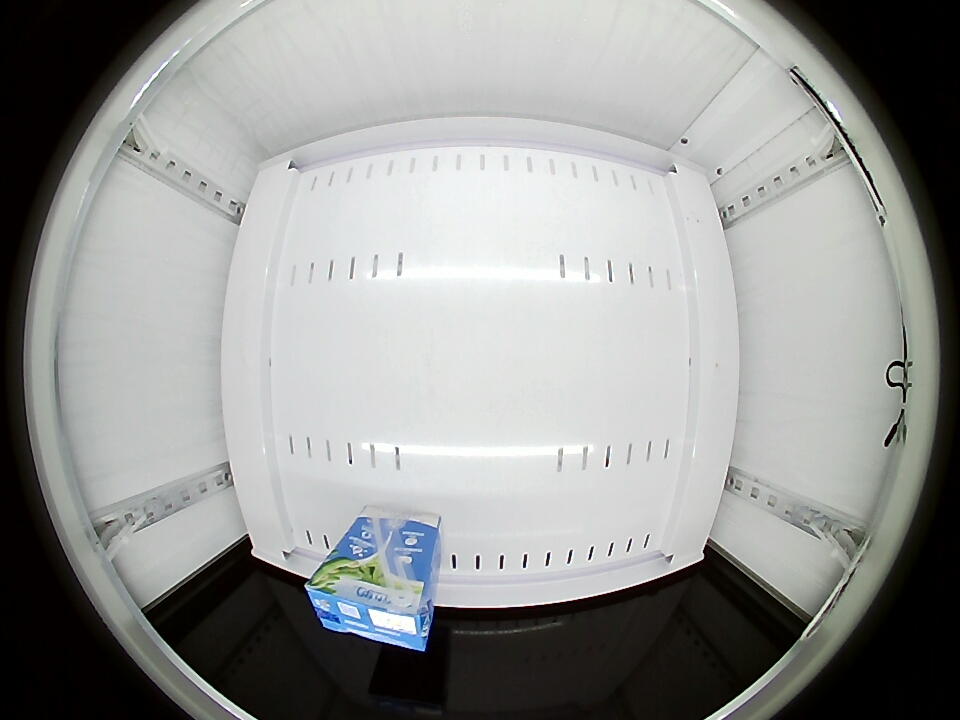weitanai: (305, 563, 433, 651)
